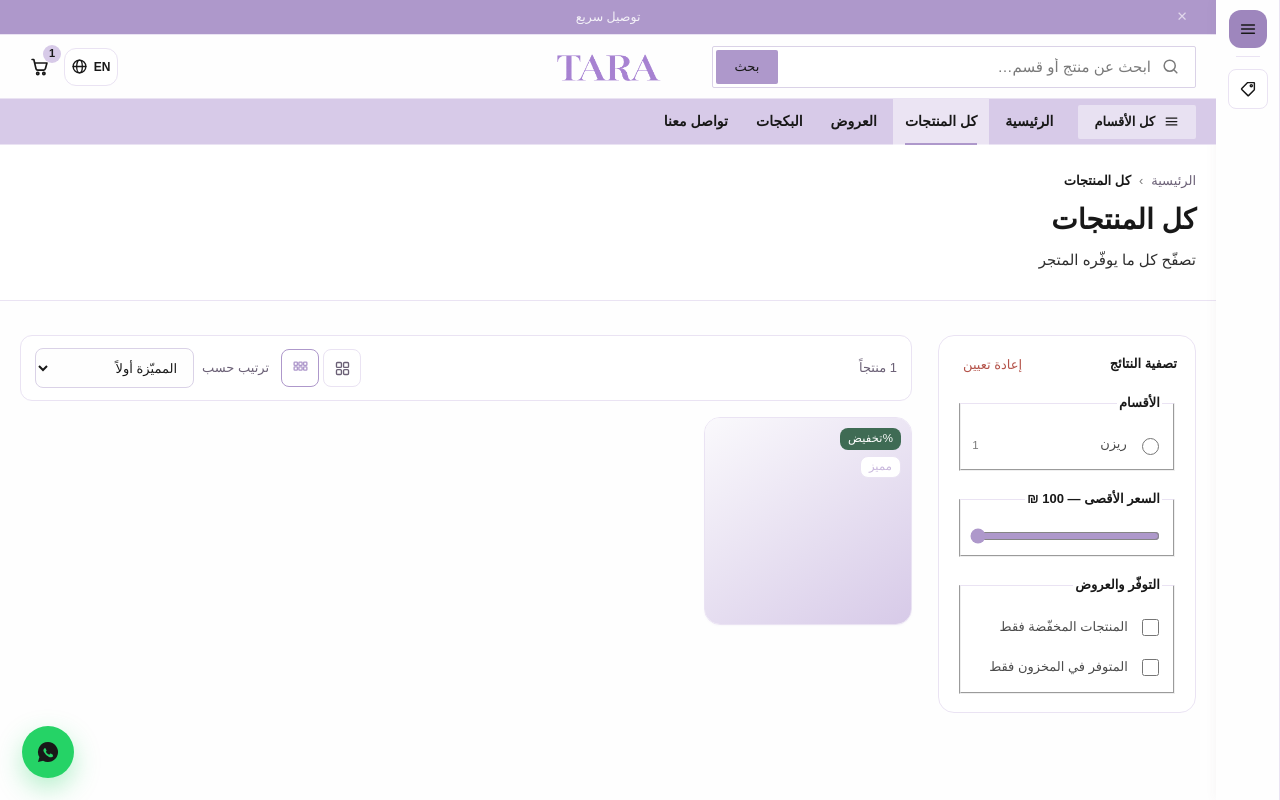
public shell › opens checkout with one click and closes the cart
This screenshot has width=1280, height=800.
Expected: the heading "كل المنتجات" is shown, [1051,204,1196,235]
Click the button named "عربة التسوّق" at (39, 66), box [20,48,58,86]
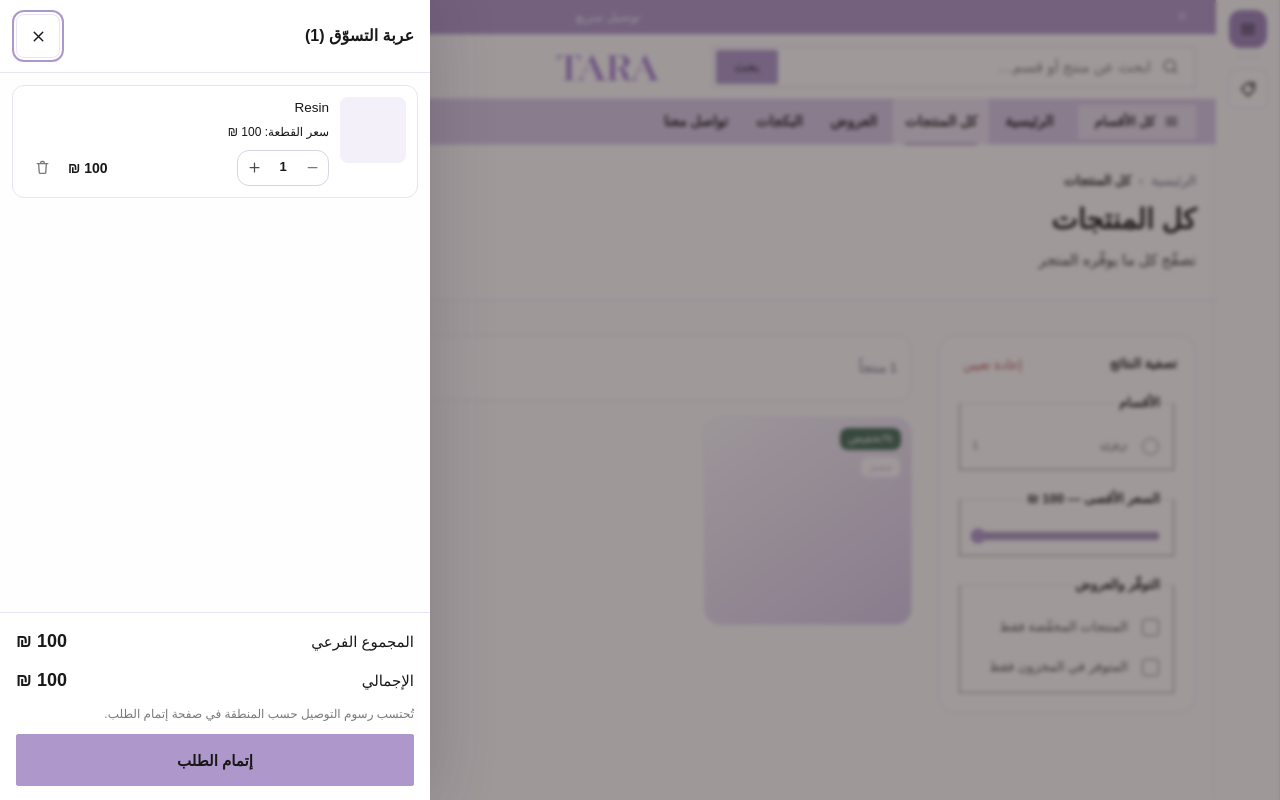
Click the button "إتمام الطلب" at (215, 760), box [16,734,414,786]
(page scrolled)
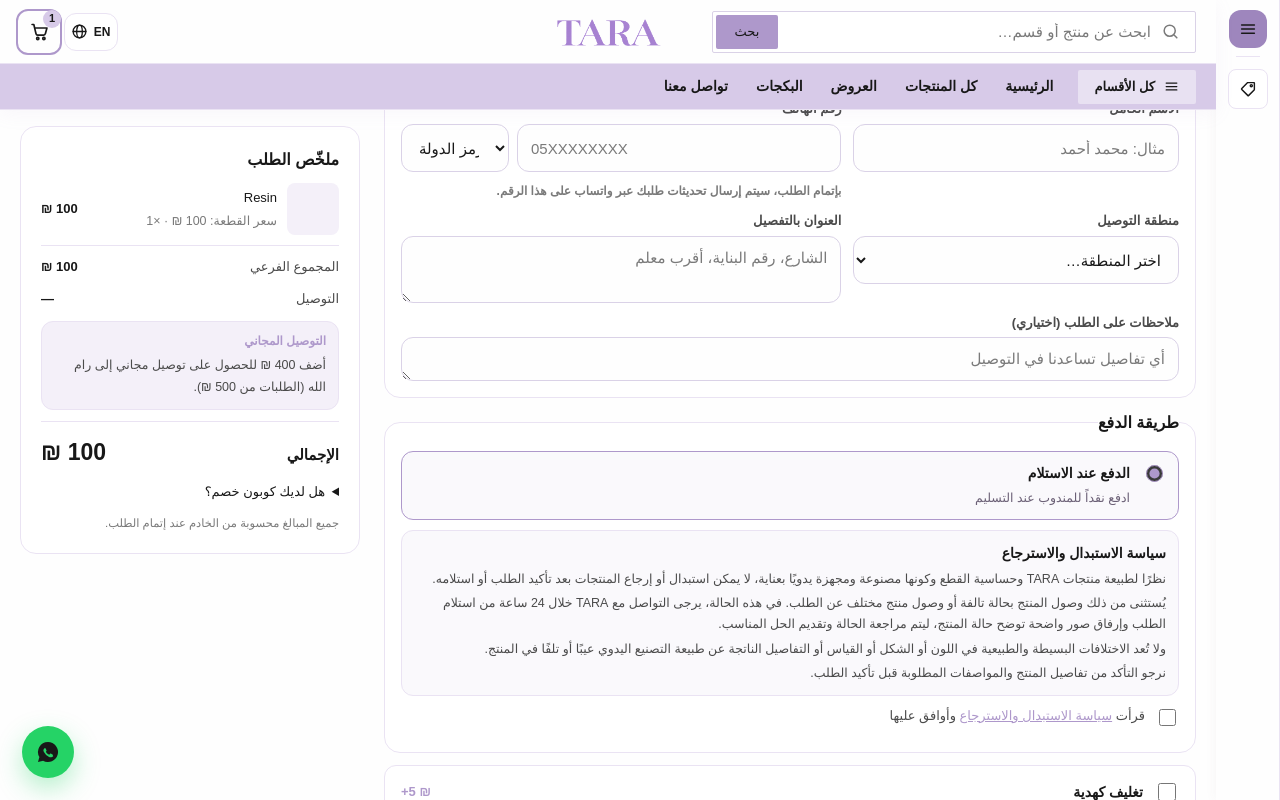
Result: no dialogs are shown
